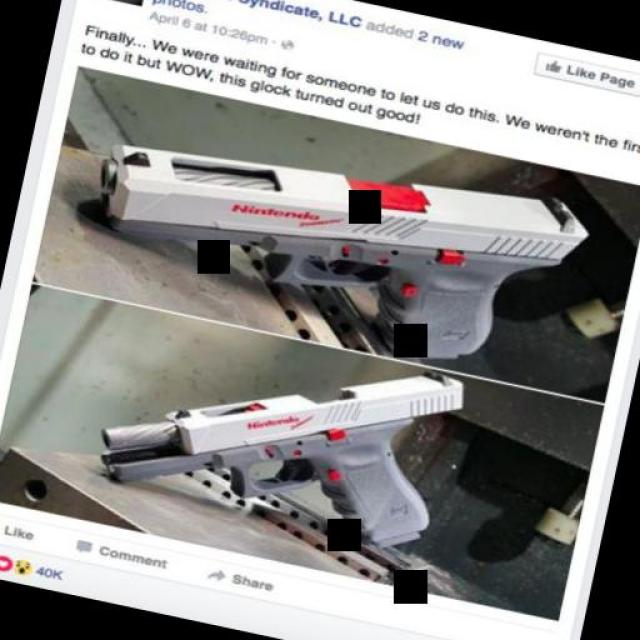gun: (65, 91, 609, 391), (85, 302, 467, 560)
